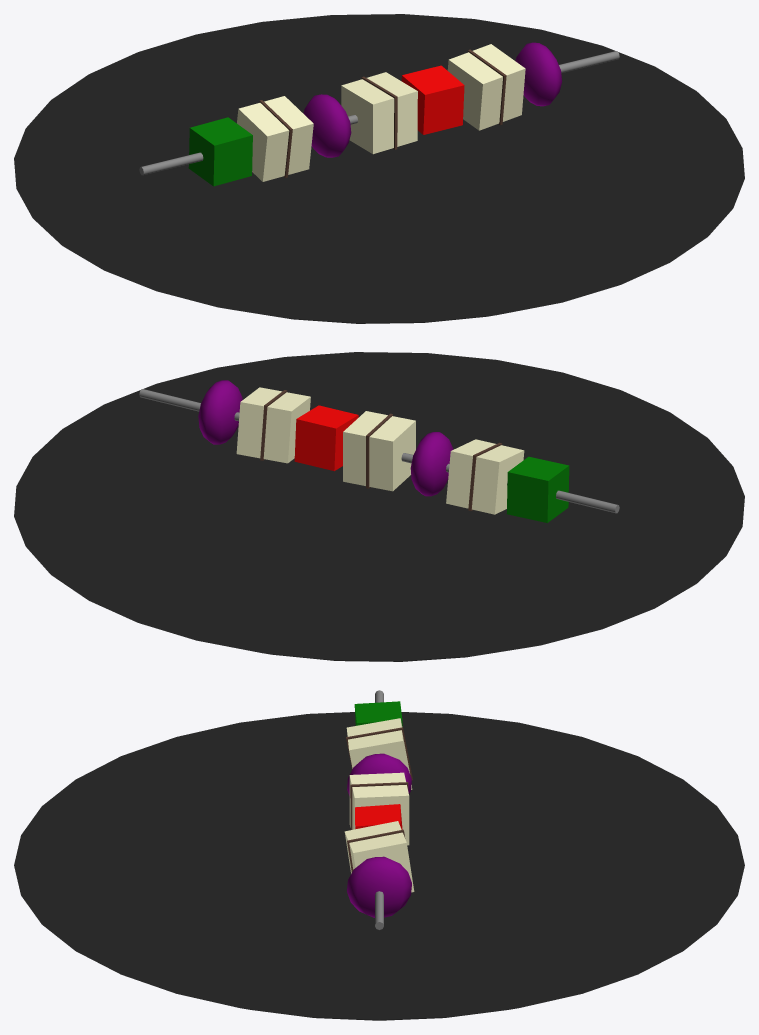
File: paneer-tikka.glb
The picture shows the model from 3 angles, top to bottom: view 1: azimuth 30°, elevation 25°; view 2: azimuth 150°, elevation 25°; view 3: azimuth 270°, elevation 25°; orthographic projection.
Bounding box in the file's own units: 2.4 × 0.3598 × 2.4.
